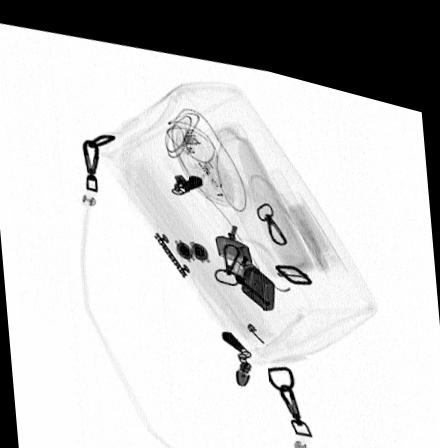Lighter: (214, 223, 274, 296)
